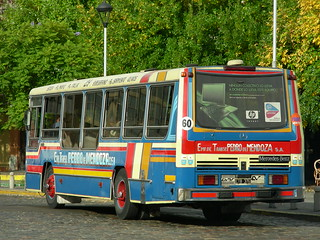bus: (24, 66, 305, 220)
